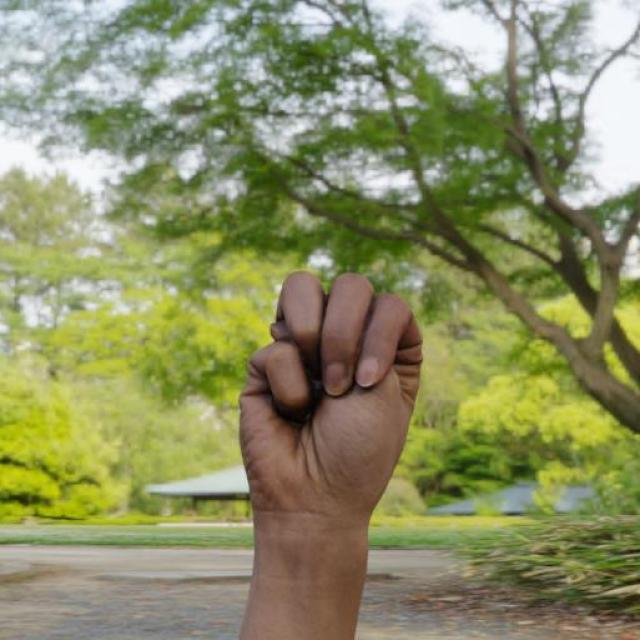M: (232, 264, 429, 524)
